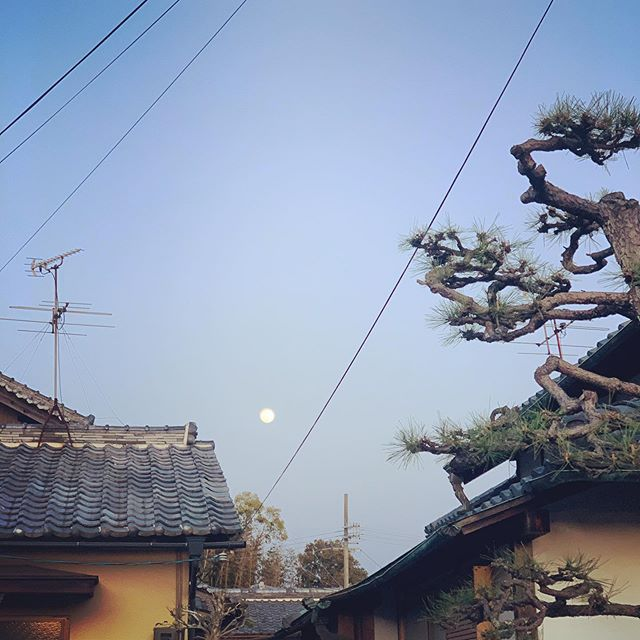building: (402, 296, 640, 640), (1, 413, 218, 640)
sky: (17, 1, 640, 397)
tree: (430, 49, 640, 521)
